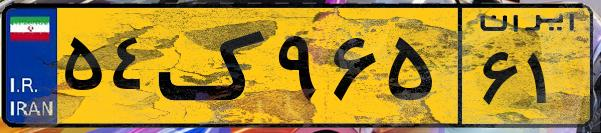1: (525, 38, 570, 115)
4: (110, 28, 158, 98)
5: (385, 28, 445, 110), (57, 26, 110, 100)
6: (330, 28, 385, 110), (475, 38, 525, 113)
9: (270, 28, 330, 110)
ک: (158, 12, 270, 120)
